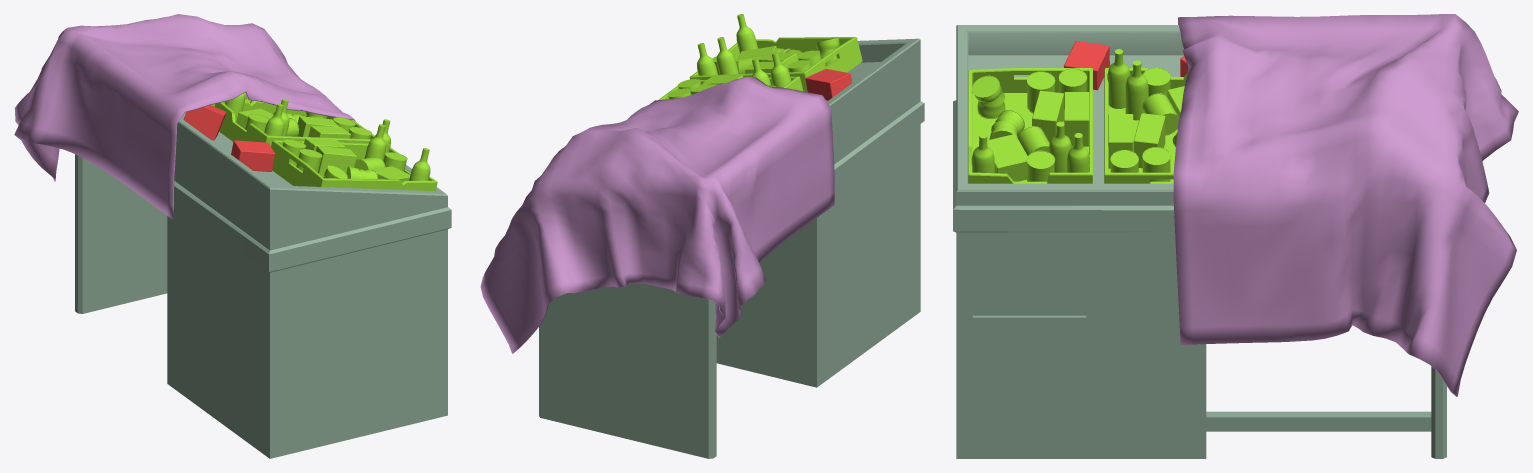
File: stand.FBX
The picture shows the model from 3 angles, left to right: view 1: azimuth 30°, elevation 25°; view 2: azimuth 150°, elevation 25°; view 3: azimuth 270°, elevation 25°; orthographic projection. The views are drawn at different scales.
Parts seen in each view (by area): view 1: presentoire; view 2: presentoire; view 3: presentoire.
Part boxes in pixels (x1,y1,x2,y2): presentoire: (14, 14, 451, 458); presentoire: (480, 14, 924, 458); presentoire: (953, 14, 1518, 458).
Bounding box in the file's own units: 97.31 × 93.89 × 136.
